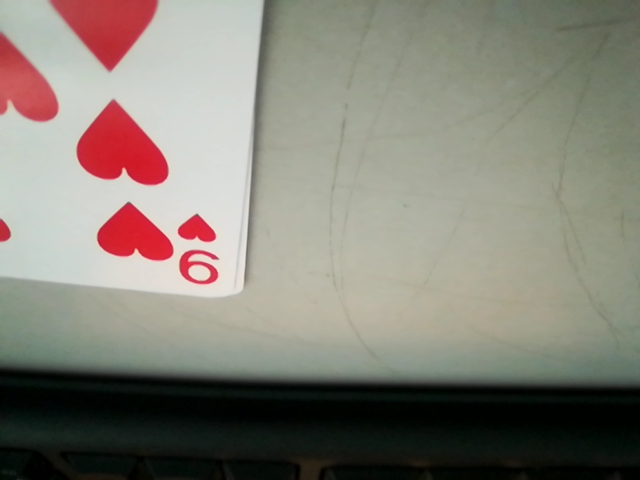hx 9: (173, 213, 234, 297)
